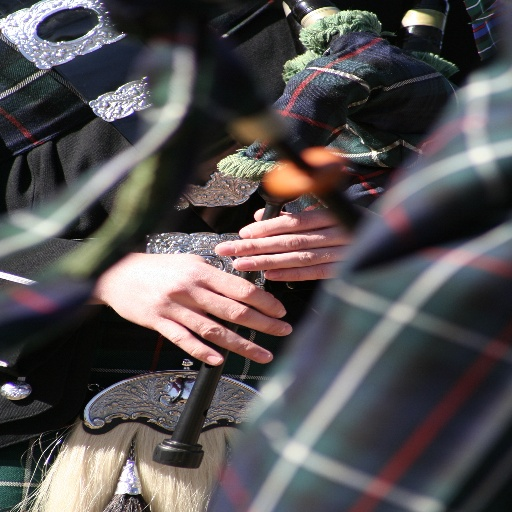hand: (93, 253, 292, 366), (218, 204, 361, 282)
